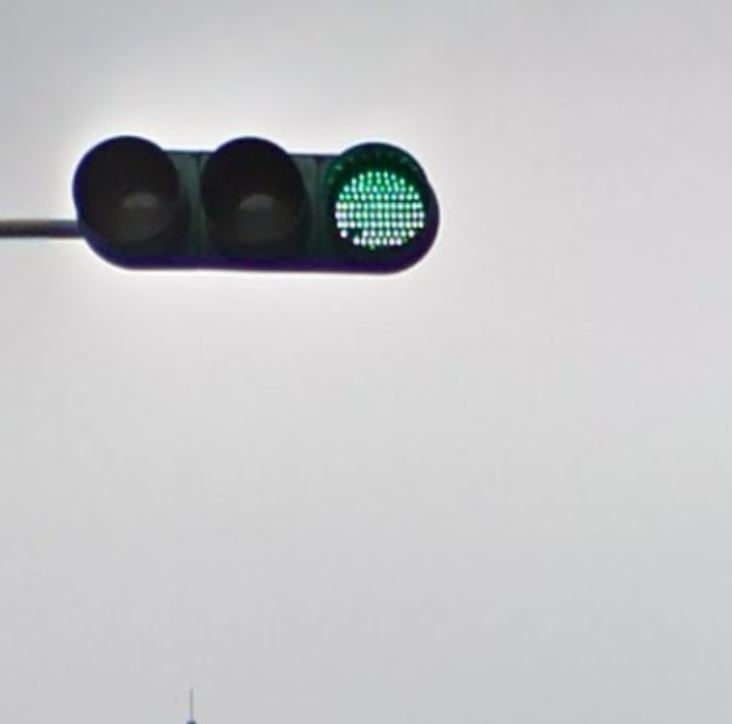Traffic_light_green: (69, 133, 444, 277)
